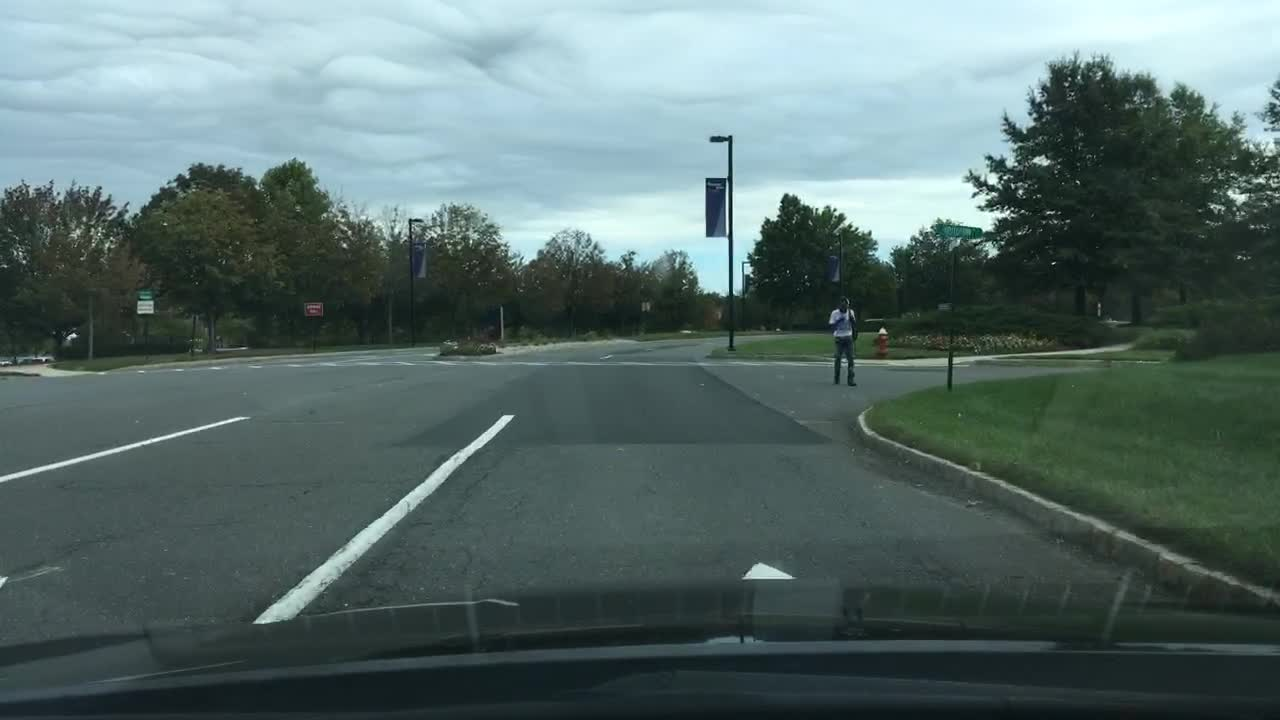car: (24, 348, 55, 365), (0, 353, 17, 368)
person: (826, 296, 861, 388)
traffic sign: (939, 222, 980, 242), (301, 299, 326, 318), (133, 301, 153, 318), (135, 287, 153, 303)
